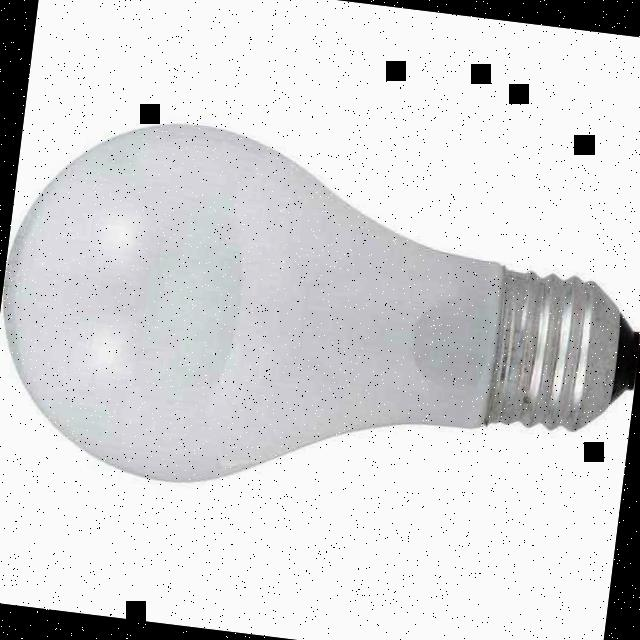light_bulb: (0, 105, 640, 540)
